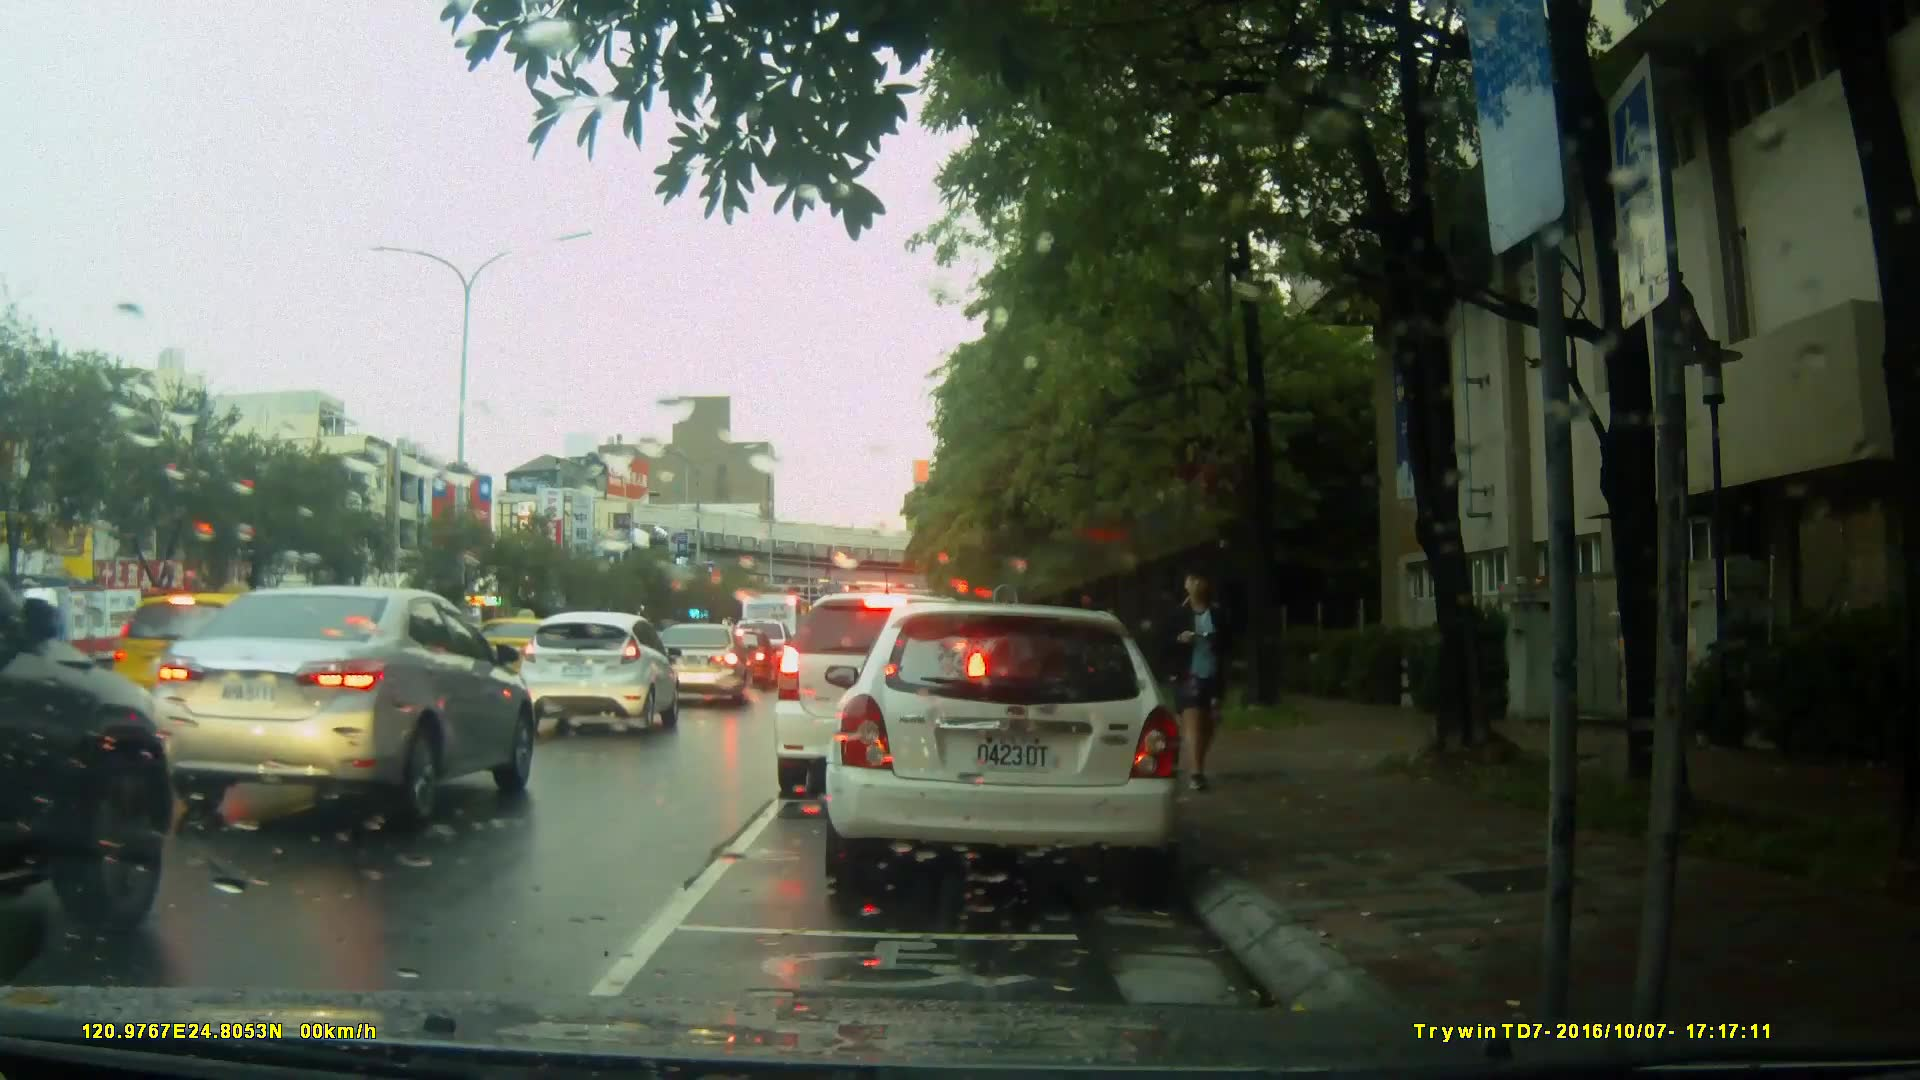pedestrian: (1163, 571, 1243, 798)
vehicle: (815, 593, 1196, 888), (138, 586, 539, 830), (9, 514, 187, 974), (770, 590, 995, 802), (109, 587, 298, 744), (511, 609, 682, 737), (653, 623, 750, 707)
